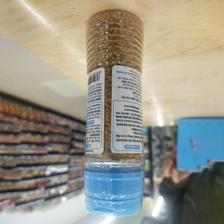TayNinh_blue: (85, 9, 145, 214)
